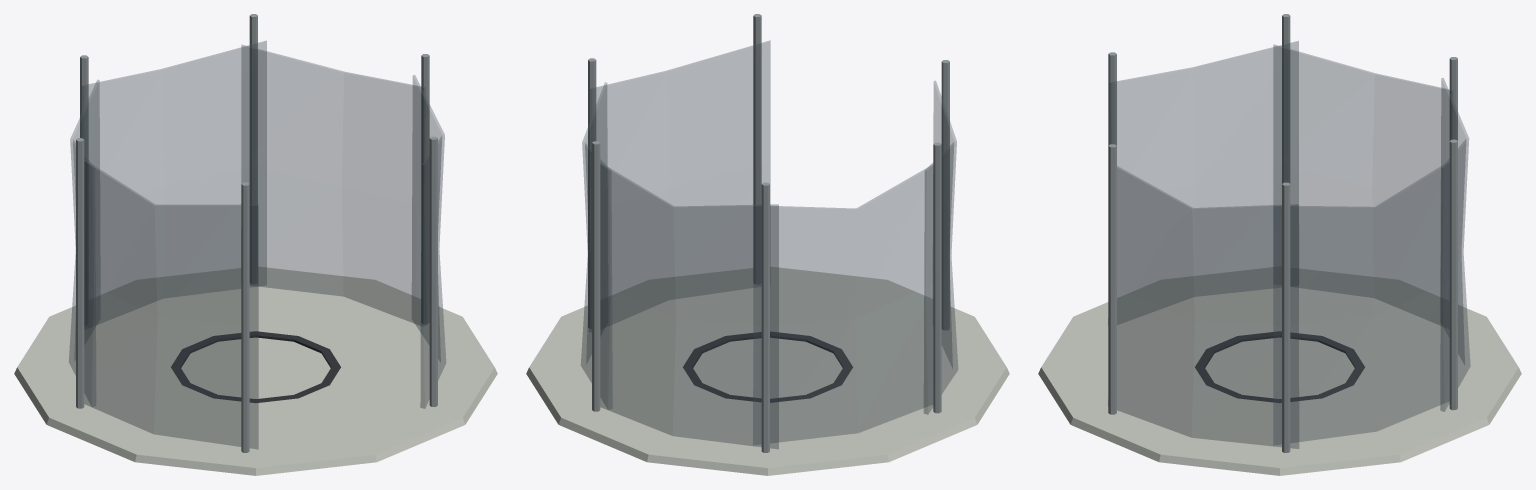
The model's file is discus-cage.glb.
3 renders of one model, left to right at view 1: azimuth 30°, elevation 25°; view 2: azimuth 150°, elevation 25°; view 3: azimuth 270°, elevation 25°, orthographic.
Visible parts, largest first — view 1: net-skin-mesh, cage-structure; view 2: net-skin-mesh, cage-structure; view 3: net-skin-mesh, cage-structure.
Part boxes in pixels (left/top/right/bottom): net-skin-mesh: left=69, top=40, right=445, bottom=449; cage-structure: left=14, top=14, right=497, bottom=475; net-skin-mesh: left=581, top=40, right=957, bottom=448; cage-structure: left=526, top=14, right=1009, bottom=475; net-skin-mesh: left=1109, top=41, right=1470, bottom=448; cage-structure: left=1038, top=14, right=1521, bottom=475.
Bounding box in the file's own units: 8 × 5 × 8.
